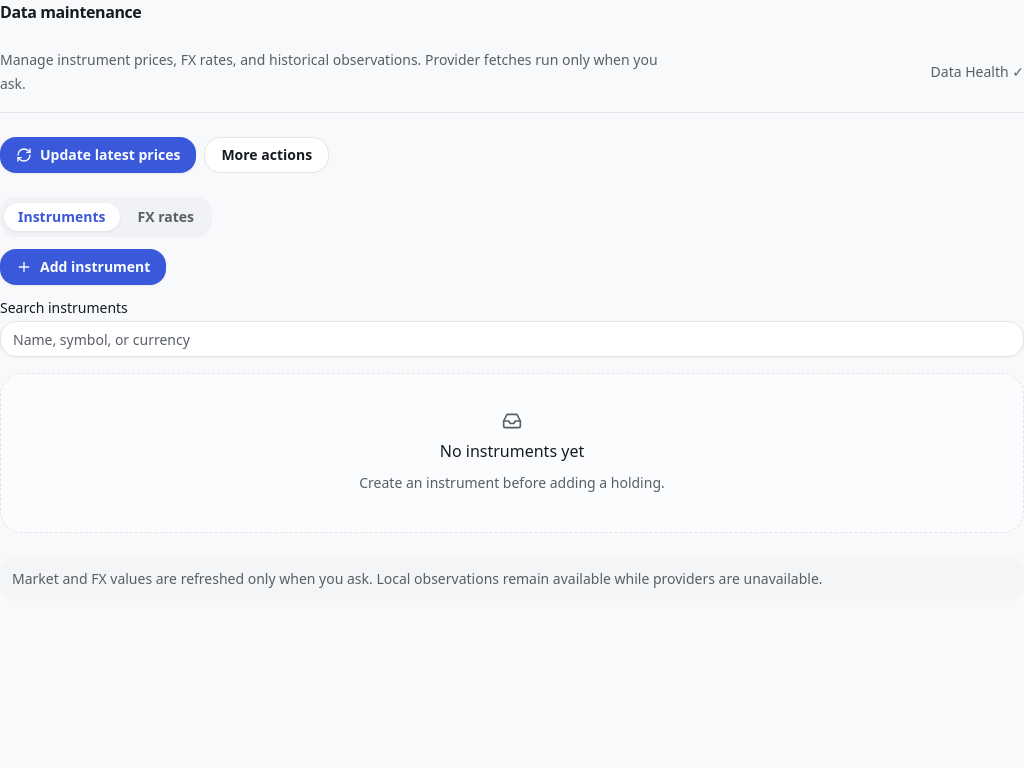
it: MarketDataPage › shows an empty state when there are no refresh targets
Click the button "More actions": {"x": 267, "y": 155} [204, 137, 329, 173]
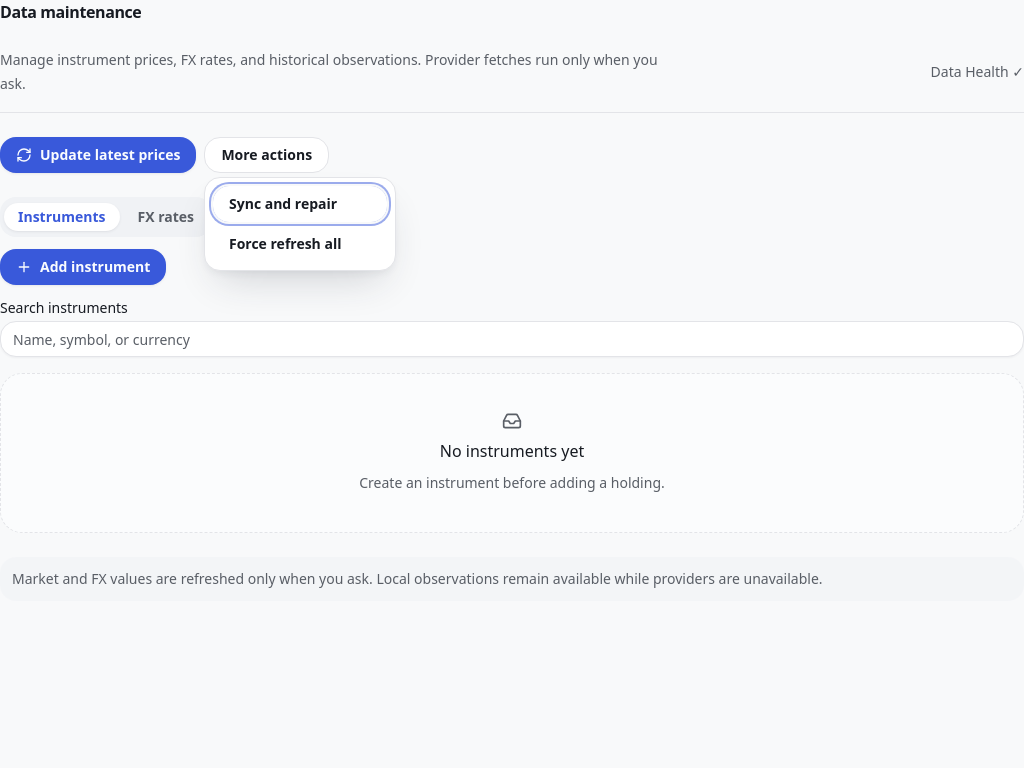
Click the button "Force refresh all": {"x": 300, "y": 244} [213, 226, 387, 262]
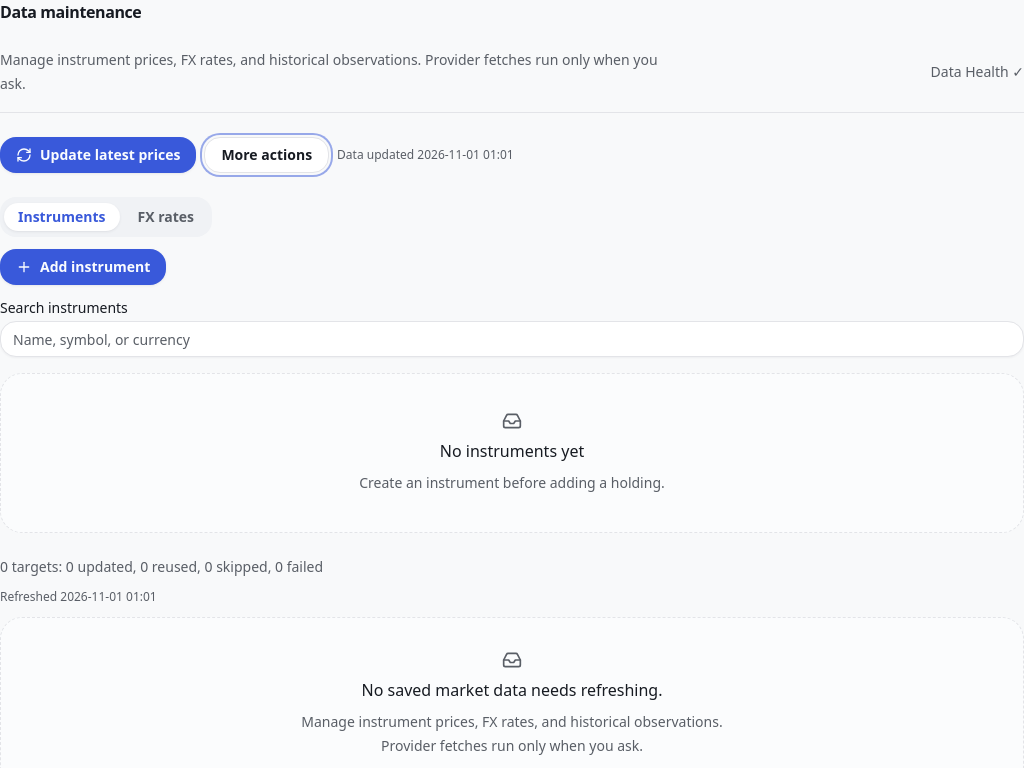
expect the heading "No saved market data needs refreshing." is shown: met, box [362, 678, 662, 702]
